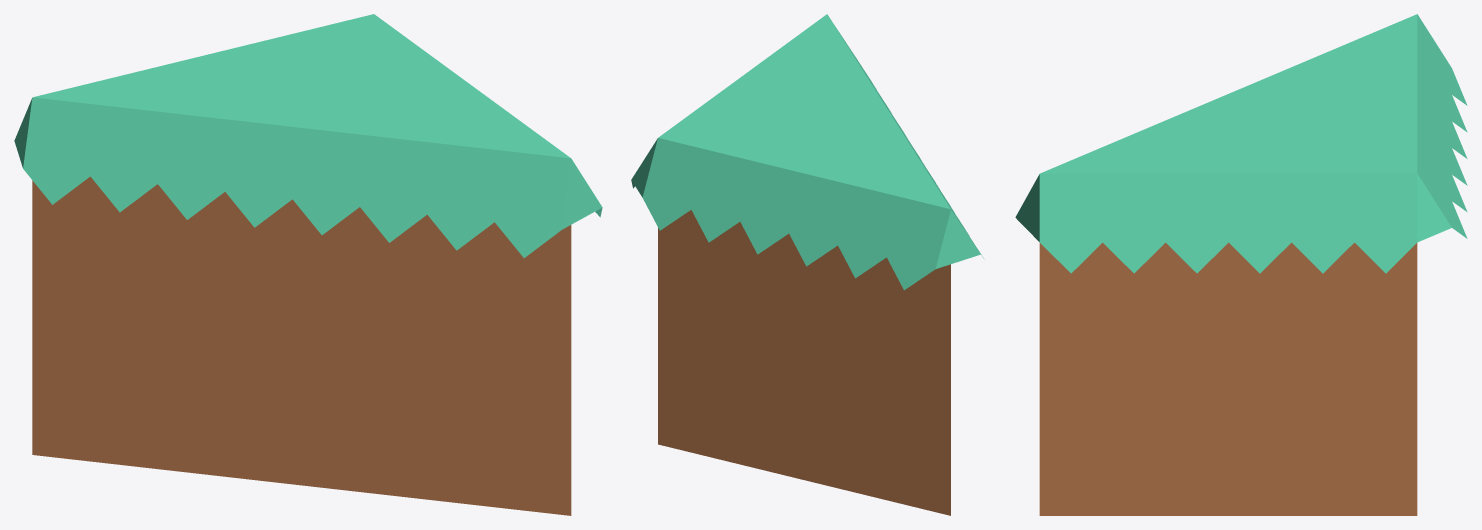
The model's file is blockCornerLarge.fbx.
3 views of the same model, side by side, from view 1: azimuth 30°, elevation 25°; view 2: azimuth 150°, elevation 25°; view 3: azimuth 270°, elevation 25° (orthographic). The views are drawn at different scales.
Parts seen in each view (by area): view 1: blockCornerLarge; view 2: blockCornerLarge; view 3: blockCornerLarge.
Part boxes in pixels (x1=…): blockCornerLarge: x1=14, y1=14, x2=602, y2=515; blockCornerLarge: x1=631, y1=14, x2=983, y2=515; blockCornerLarge: x1=1015, y1=14, x2=1467, y2=515.
Size of the model in its own units: 11.98 by 10 by 11.98.
